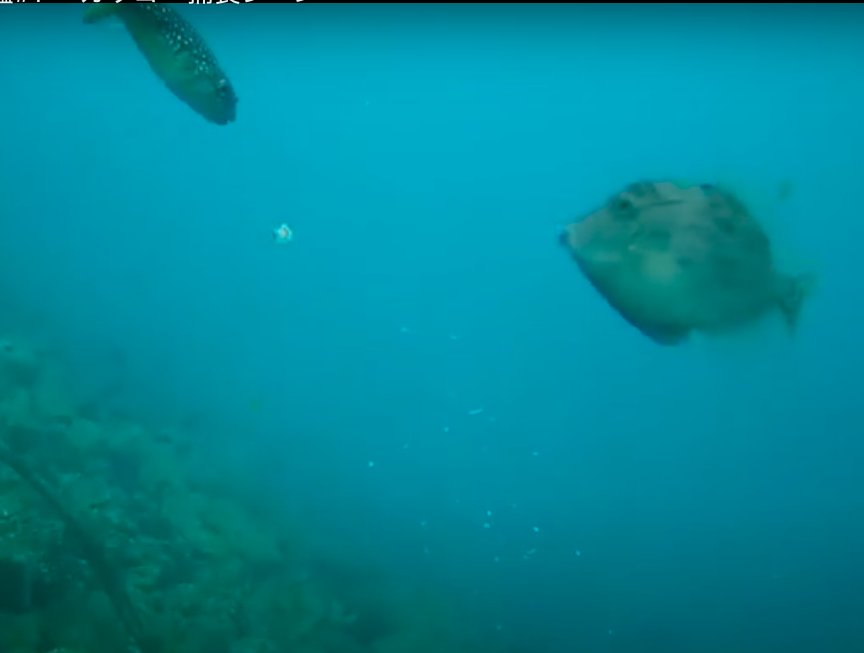kawahagi: (547, 153, 819, 364)
